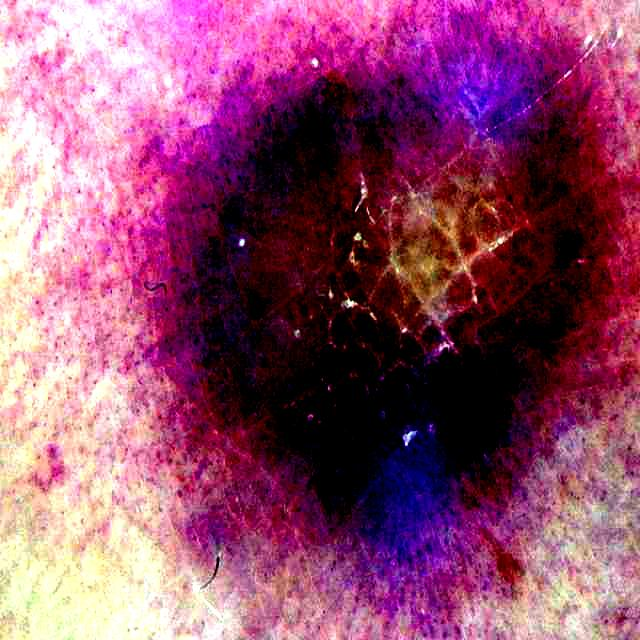DF: (170, 10, 585, 560)
